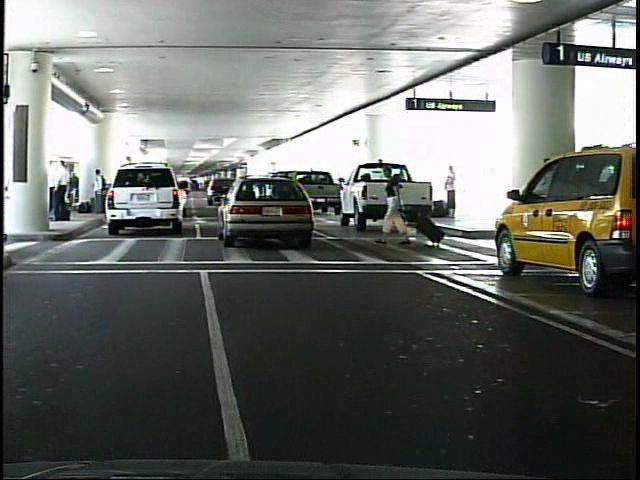person: (384, 163, 410, 248), (60, 160, 75, 224), (97, 166, 112, 221), (448, 161, 460, 216)
